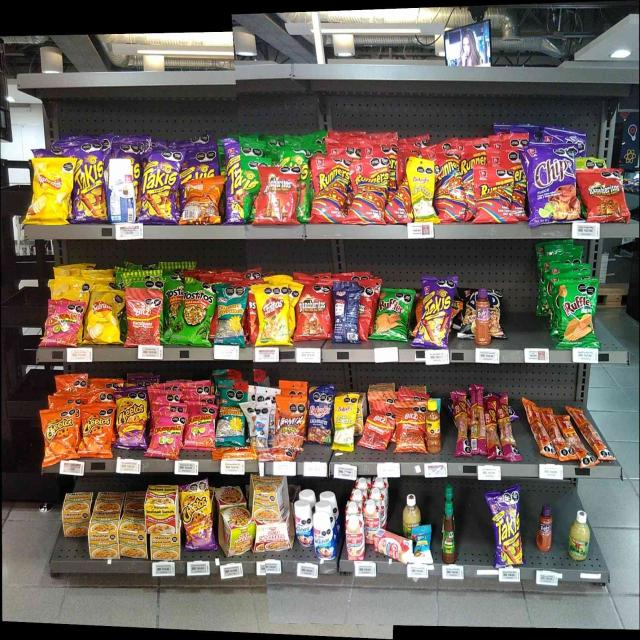bitzAlmendras: (416, 529, 433, 566)
bitzEnchilado90: (126, 289, 159, 346), (396, 400, 424, 452), (366, 402, 390, 450)
bitzEnchilado95: (528, 401, 611, 466), (217, 450, 294, 461)
bitzHabanero: (451, 389, 518, 462)
bokadosCacahuates: (336, 283, 359, 343), (308, 387, 332, 444)
botaneraChilito: (427, 401, 442, 453)
cheetosFlaminHot: (184, 486, 214, 549), (116, 389, 145, 449)
cheetosOriginal: (44, 410, 76, 461), (82, 405, 110, 460)
chipsFuego: (526, 147, 572, 224)
churrumais: (48, 302, 78, 346), (186, 402, 213, 449), (154, 411, 179, 459)
delPrimoSalsa: (568, 510, 588, 561), (402, 493, 421, 526)
fritosLimon: (254, 286, 290, 345)
leoCacahuates: (249, 391, 271, 446)
leoMix: (276, 395, 304, 449)
maruchanPollo: (90, 513, 118, 559), (254, 476, 283, 520), (120, 512, 146, 558), (63, 494, 88, 536), (151, 538, 181, 560)
maruchanRes: (150, 486, 178, 534)
nestleCarnation: (346, 516, 364, 559), (386, 534, 412, 562), (366, 501, 380, 544)
nestleLechera: (109, 160, 135, 222), (316, 515, 335, 560), (295, 502, 314, 546)
nissinCamaron: (219, 511, 251, 556)
nissinRes: (256, 525, 291, 551)
productoAtras: (184, 183, 220, 224)
rancheritos: (259, 167, 297, 225), (578, 170, 622, 220), (298, 286, 332, 340)
rufflesQueso: (559, 283, 595, 348), (376, 287, 409, 343)
runners: (472, 165, 516, 224), (311, 157, 346, 225), (350, 161, 384, 225), (438, 151, 464, 223)
sabritasOriginal: (33, 159, 72, 225), (85, 290, 122, 344)
salsaBufalo: (443, 503, 456, 563)
semillasCalabaza: (406, 158, 436, 223), (334, 396, 354, 450)
semillasGirasol: (217, 288, 246, 346), (220, 387, 244, 446)
tajinDulce: (474, 290, 492, 346), (538, 507, 551, 551)
takisFuego: (144, 152, 178, 222), (74, 146, 105, 222), (423, 277, 451, 349), (493, 493, 521, 564), (227, 140, 244, 223), (181, 150, 217, 176)
tostitos: (186, 283, 213, 345), (165, 279, 184, 320)
